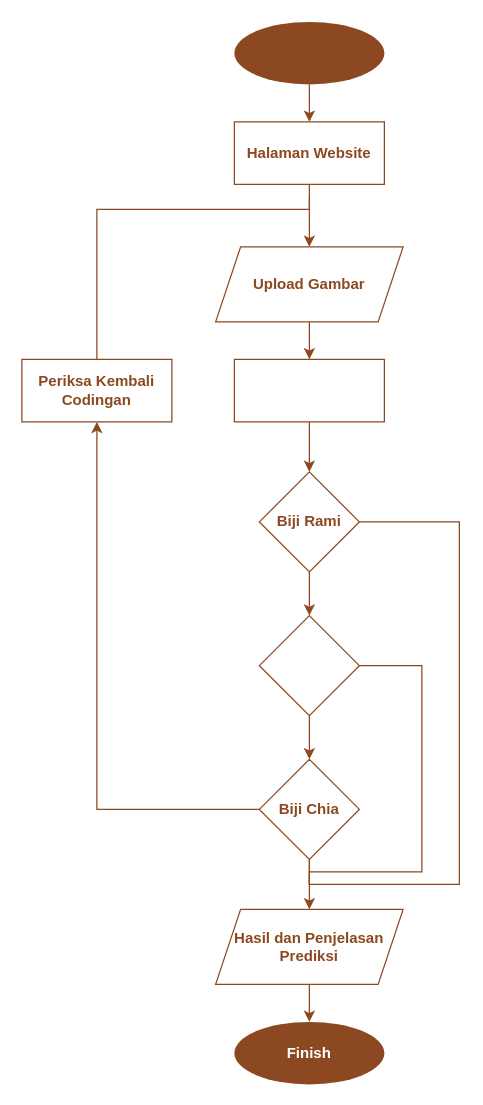
The diagram is 483 pixels wide and 1105 high, and some of its shapes have lost their labels. The shapes that lost their labels are listed below. From the top down, each one's centre as x and y in pixels, then its label:
point 309,52: Start
point 308,390: Mendeteksi
point 308,665: Biji Wijen
